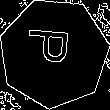P_E: (27, 33, 81, 74)
